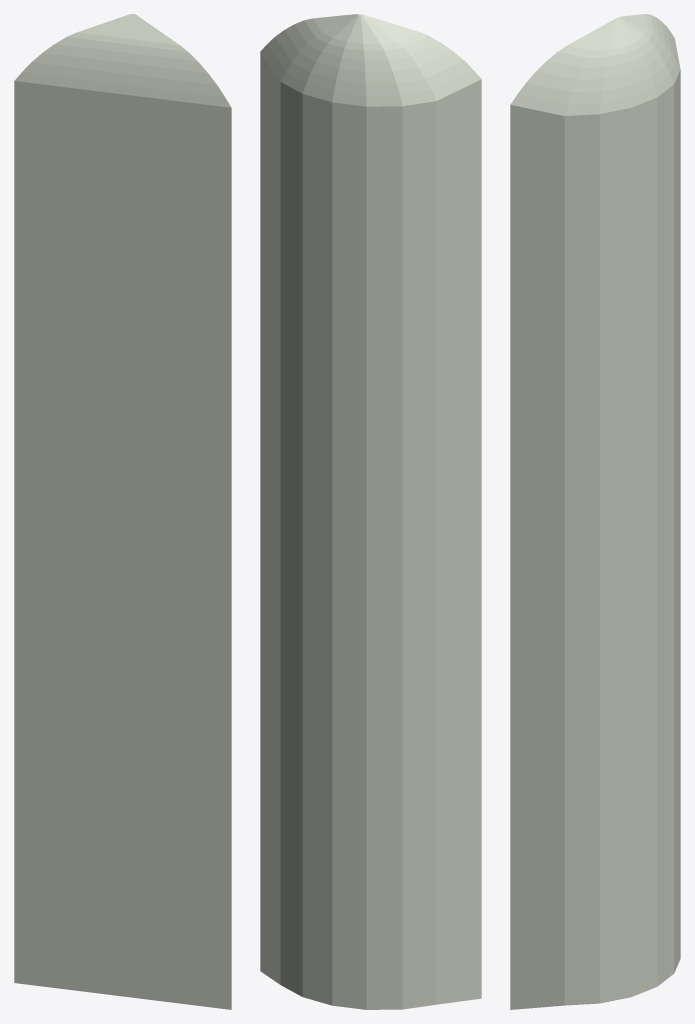
File: poste1.obj
3 renders of one model, left to right at view 1: azimuth 30°, elevation 25°; view 2: azimuth 210°, elevation 25°; view 3: azimuth 270°, elevation 25°, orthographic.
Visible parts, largest first — view 1: poste1_Mesh; view 2: poste1_Mesh; view 3: poste1_Mesh.
Part boxes in pixels (bbox=[...]): poste1_Mesh: bbox=[14, 14, 231, 1009]; poste1_Mesh: bbox=[260, 14, 481, 1009]; poste1_Mesh: bbox=[510, 14, 680, 1009].
Bounding box in the file's own units: 0.5079 × 3.29 × 0.5233.
1 material, 1 textured.
